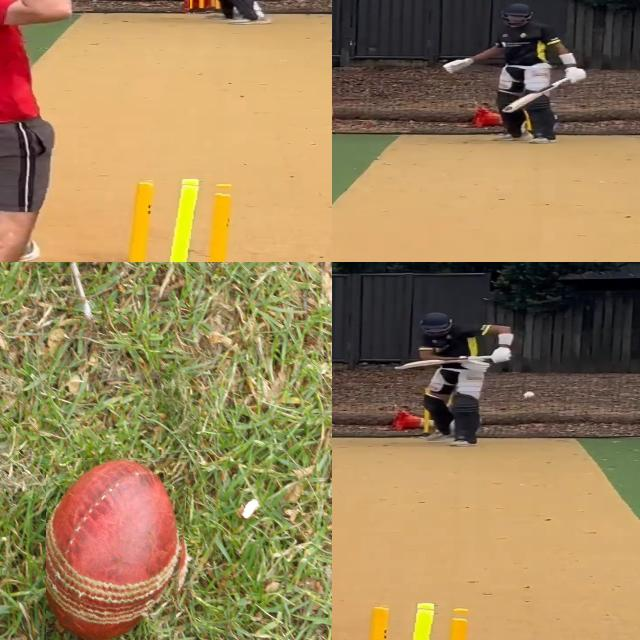Cricket ball: (46, 457, 190, 640), (520, 391, 536, 400)
Stumps: (123, 178, 248, 262), (357, 602, 487, 640), (189, 0, 220, 13)
